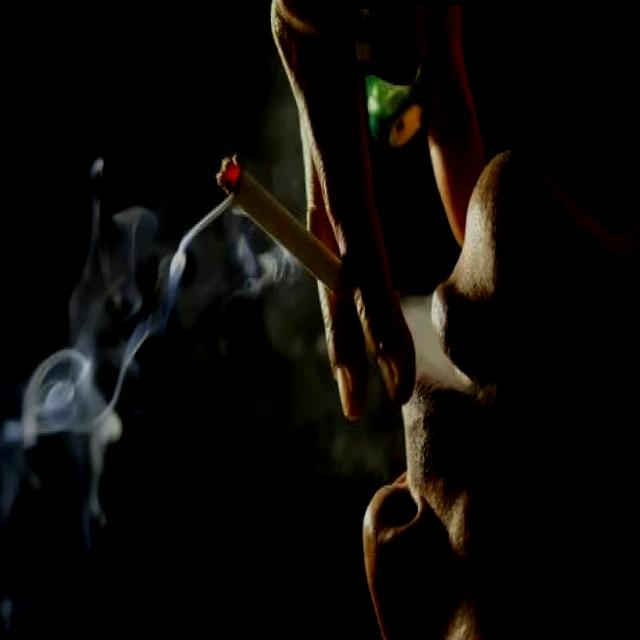smoke: (208, 147, 371, 326)
